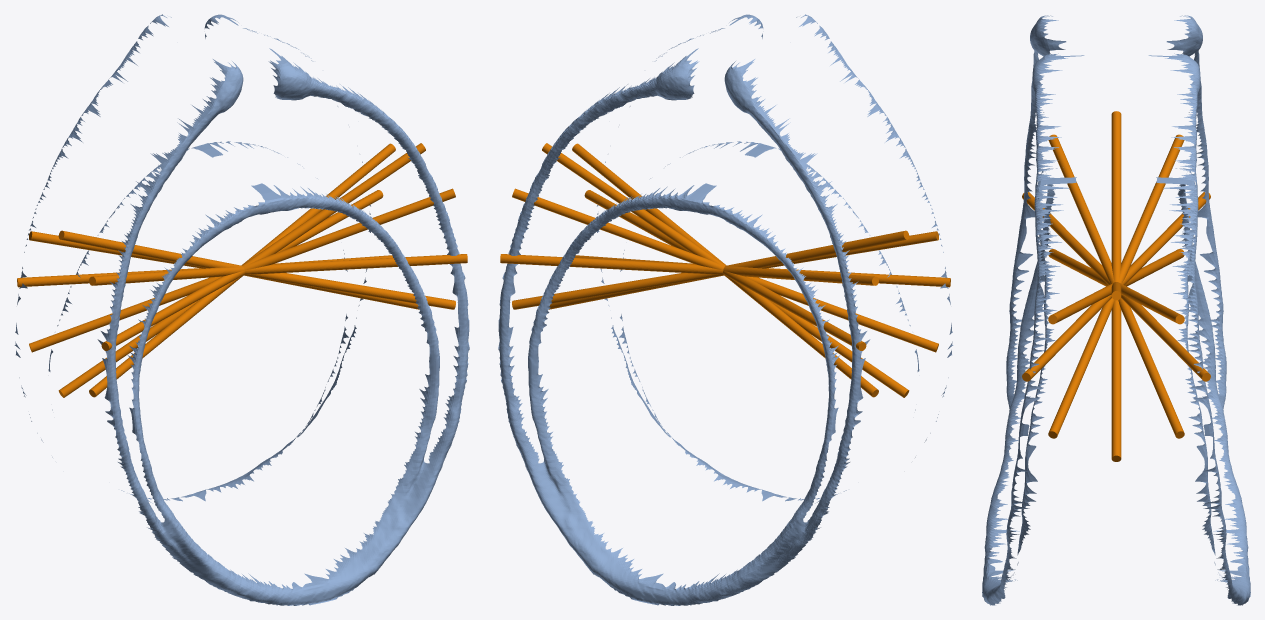
Rendered from A60025772_6150-37-520-1801_DigitalTwin.glb.
3 renders of one model, left to right at view 1: azimuth 30°, elevation 25°; view 2: azimuth 150°, elevation 25°; view 3: azimuth 270°, elevation 25°, orthographic. The views are drawn at different scales.
Visible parts, largest first — view 1: world; view 2: world; view 3: world.
Part boxes in pixels (<box>): world: <box>14,14,469,605</box>; world: <box>498,14,953,605</box>; world: <box>982,15,1250,605</box>.
Bounding box in the file's own units: 181 × 251 × 112.
